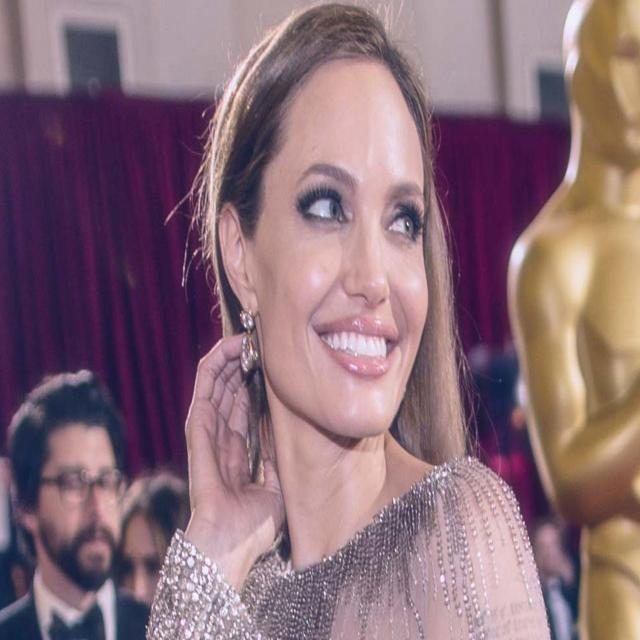no-earmuff: (205, 182, 274, 339), (559, 33, 609, 131), (0, 470, 44, 545)
